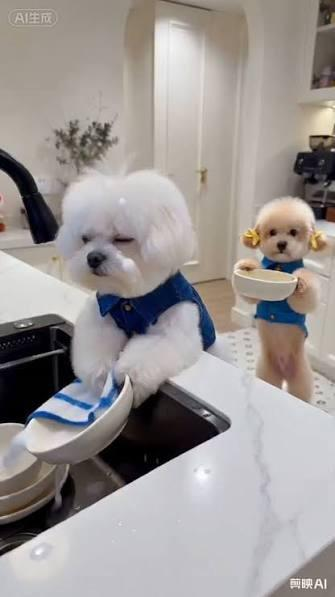adult_dog: (49, 166, 216, 410)
puppy-dog: (232, 197, 327, 404)
